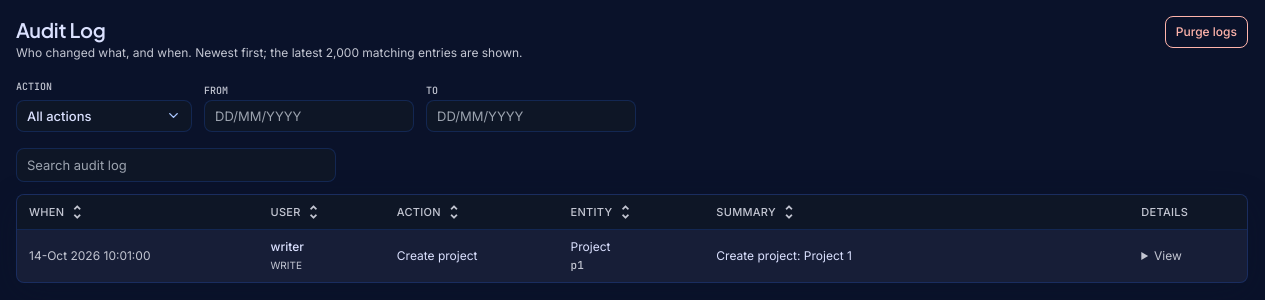
Test: AuditLogPage › asks the API again when a filter changes
expect the text "Create project: Project 1" is shown: met, box [704,230,1129,282]
Click the button with aria-label "Filter by action".
click(104, 116)  # box [16,100,192,132]
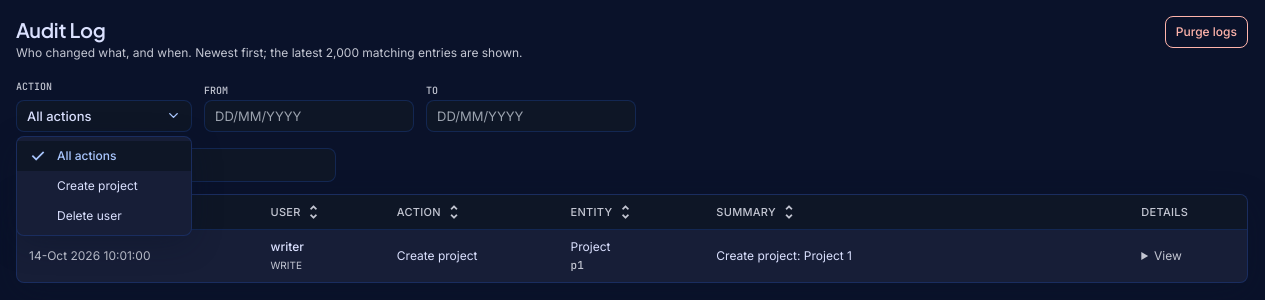
expect the option "Delete user" is shown: met
Click the option "Delete user".
click(104, 216)  # box [17,201,191,231]
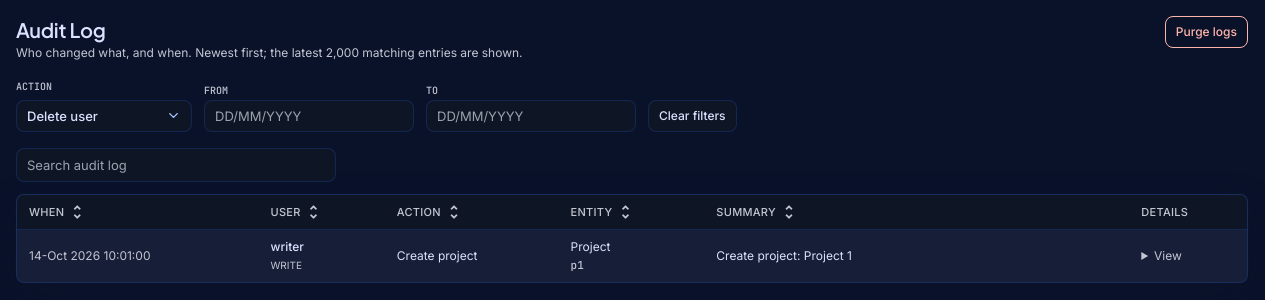
Type "01/10/2026" into the field labelled "From".
click(309, 116); type("01/10/2026")  # box [204,100,414,132]
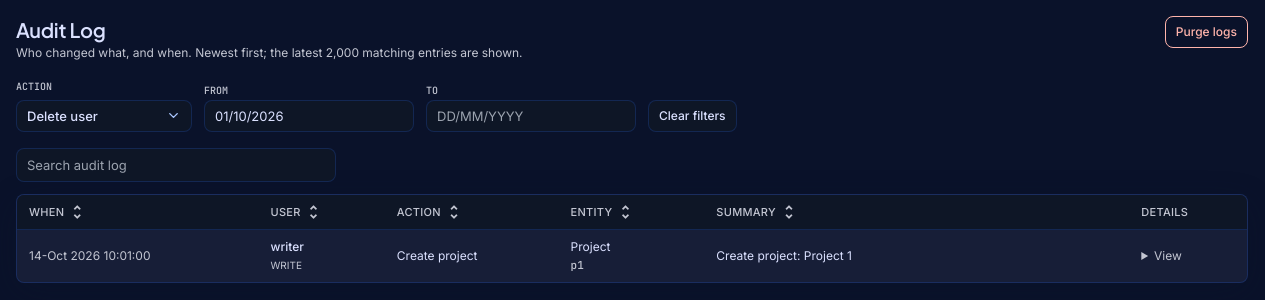
Type "14/10/2026" into the field labelled "To".
click(531, 116); type("14/10/2026")  # box [426,100,636,132]
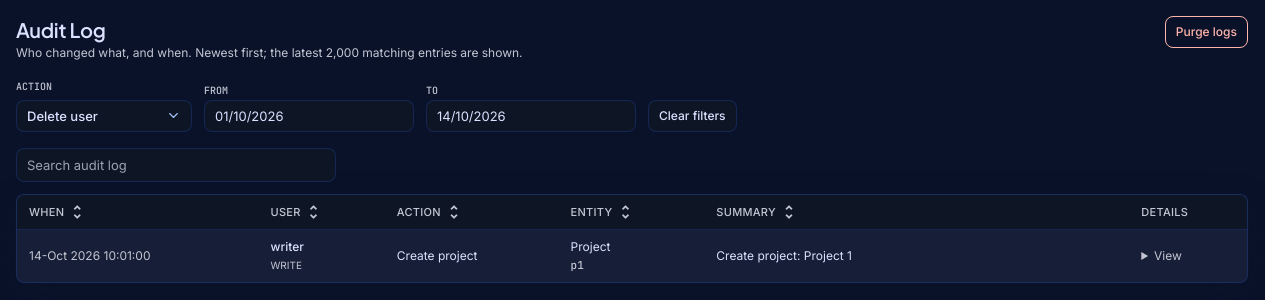
Click the button "Clear filters".
click(692, 116)  # box [648,100,737,132]
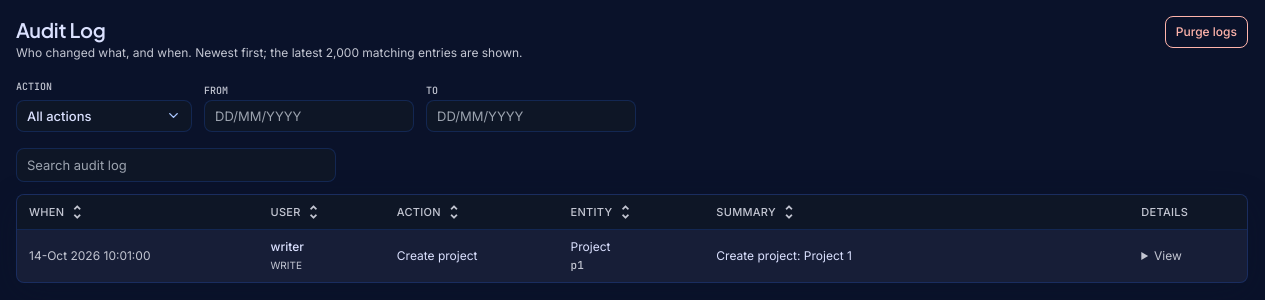
expect the button with aria-label "Filter by action" reads "All actions": met, box [16,100,192,132]
